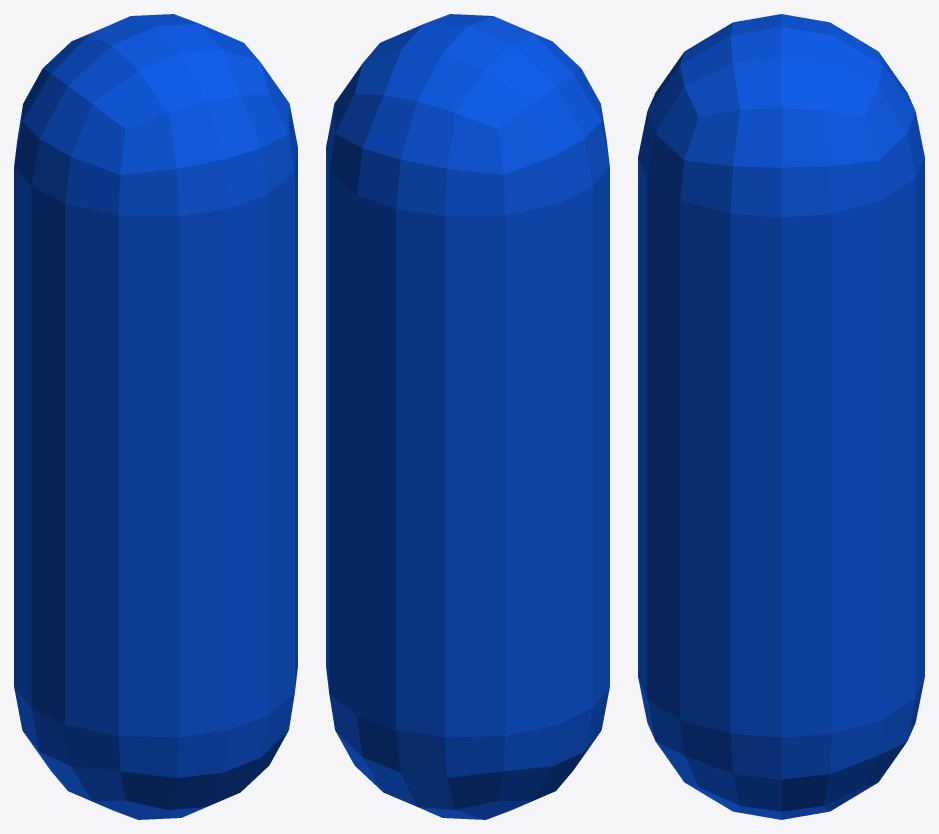
The model's file is Player.glb.
3 renders of one model, left to right at view 1: azimuth 30°, elevation 25°; view 2: azimuth 150°, elevation 25°; view 3: azimuth 270°, elevation 25°, orthographic.
Visible parts, largest first — view 1: player_geometry; view 2: player_geometry; view 3: player_geometry.
Boxes of the visible parts, x1=… form: player_geometry: x1=14, y1=14, x2=297, y2=819; player_geometry: x1=326, y1=14, x2=609, y2=819; player_geometry: x1=638, y1=14, x2=924, y2=819.
Size of the model in its own units: 0.6663 by 2 by 0.6663.
